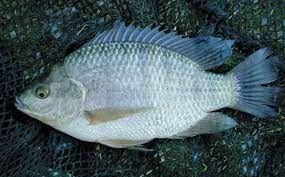Tilapia: (15, 20, 279, 151)
